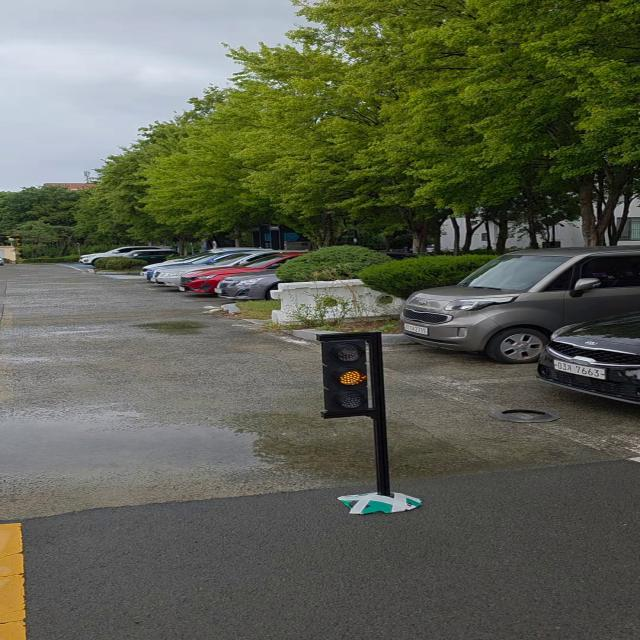yellow: (321, 334, 381, 418)
